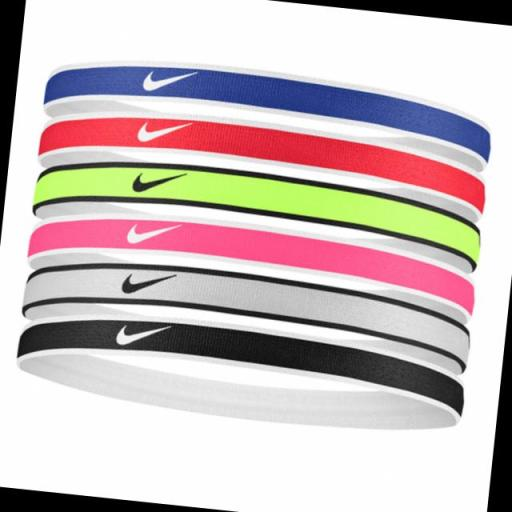Nike: (125, 220, 182, 250)
